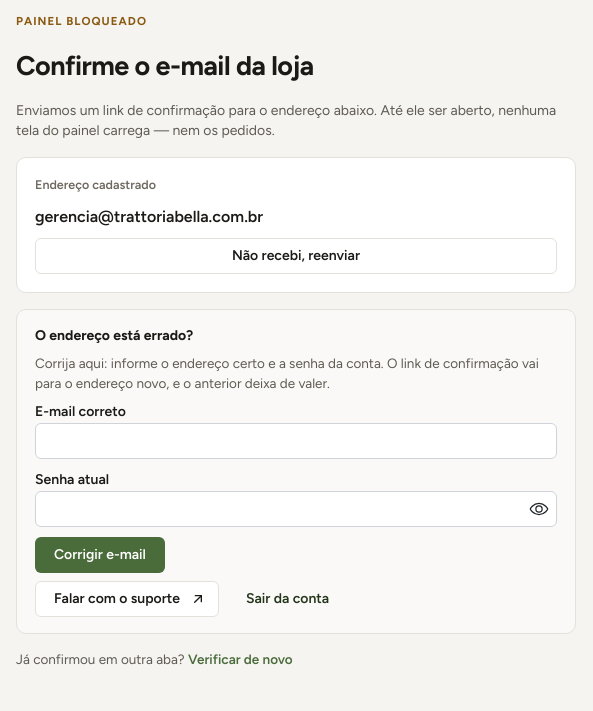
EmailBlockedPage › reenvio aceito mostra a mensagem neutra
This screenshot has width=593, height=711.
Click the button "Não recebi, reenviar" at (296, 256), box [35, 238, 557, 274]
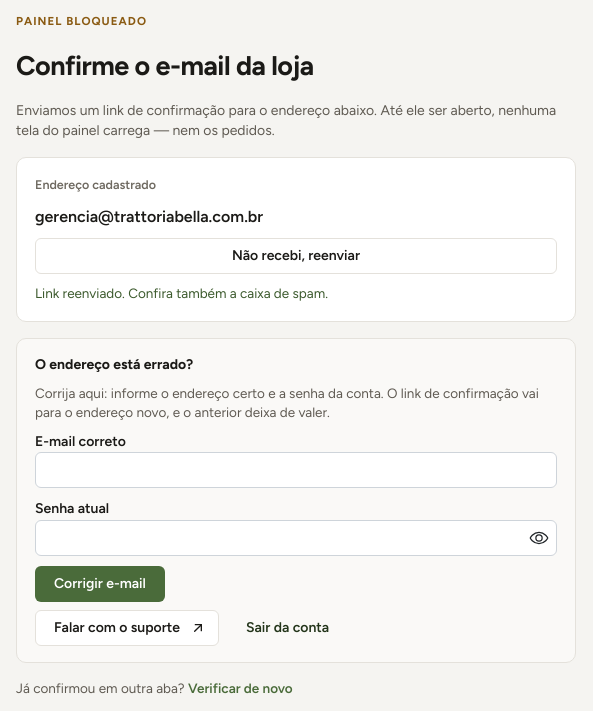
Result: the text "Link reenviado. Confira também a caixa de spam." is shown at [35, 285, 328, 301]
